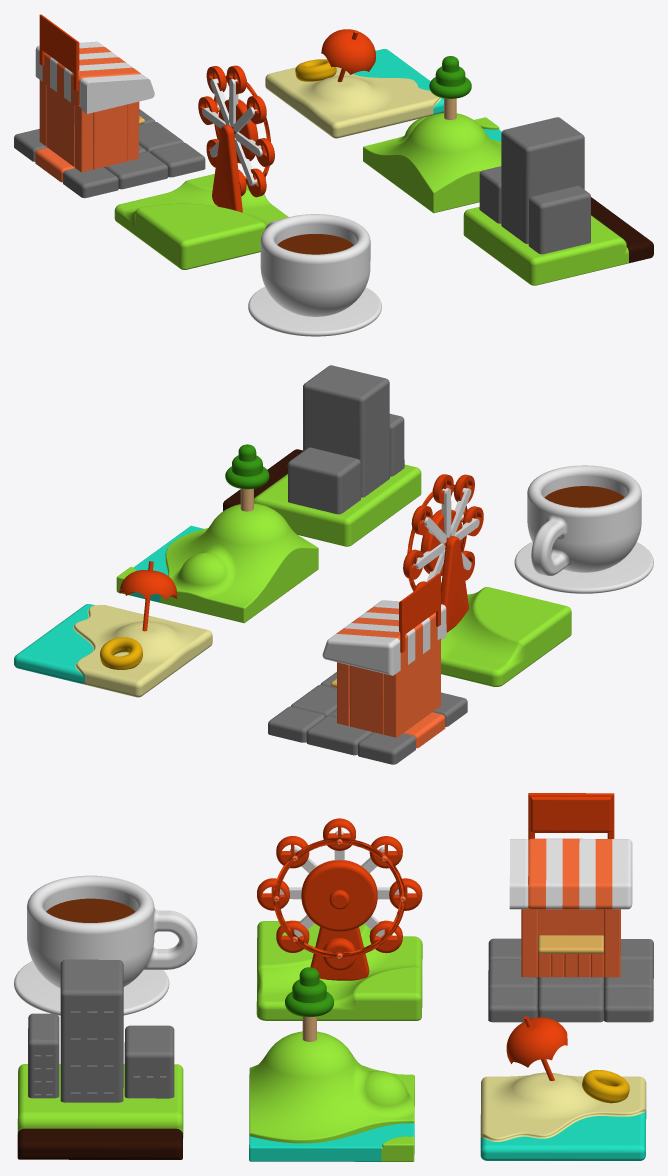
Rendered from place.glb.
3 renders of one model, top to bottom at view 1: azimuth 30°, elevation 25°; view 2: azimuth 150°, elevation 25°; view 3: azimuth 270°, elevation 25°, orthographic. The views are drawn at different scales.
Parts seen in each view (by area): view 1: Body50, Body91, Body22, Body88, Body92, Body96, Body85, Body93, Body47, Body54.001, Body72, Body46 (+18 smaller); view 2: Body91, Body22, Body50, Body92, Body88, Body85, Body96, Body1, Body47, Body87, Body54, Body57 (+17 smaller); view 3: Body91, Body22, Body50, Body85, Body92, Body88, Body96, Body87, Body94, Body36, Body1, Body5 (+31 smaller).
Part boxes in pixels (bbox=[...]): Body50: bbox=[114, 174, 288, 269]; Body91: bbox=[363, 112, 501, 213]; Body22: bbox=[260, 214, 370, 316]; Body88: bbox=[265, 67, 441, 138]; Body92: bbox=[501, 117, 584, 243]; Body96: bbox=[463, 207, 628, 285]; Body85: bbox=[14, 109, 205, 198]; Body93: bbox=[528, 185, 590, 254]; Body47: bbox=[248, 287, 381, 336]; Body54.001: bbox=[80, 74, 154, 113]; Body72: bbox=[93, 104, 127, 169]; Body46: bbox=[202, 78, 262, 185]; Body91: bbox=[160, 503, 318, 623]; Body22: bbox=[527, 465, 641, 576]; Body50: bbox=[441, 587, 571, 686]; Body92: bbox=[303, 365, 389, 497]; Body88: bbox=[73, 605, 212, 697]; Body85: bbox=[268, 672, 467, 764]; Body96: bbox=[254, 464, 421, 546]; Body1: bbox=[287, 447, 360, 514]; Body47: bbox=[514, 542, 653, 593]; Body87: bbox=[14, 604, 94, 683]; Body54: bbox=[322, 634, 400, 675]; Body57: bbox=[349, 665, 383, 734]; Body91: bbox=[249, 1031, 414, 1143]; Body22: bbox=[27, 875, 197, 988]; Body50: bbox=[256, 921, 422, 1020]; Body85: bbox=[488, 938, 653, 1022]; Body92: bbox=[60, 959, 123, 1102]; Body88: bbox=[480, 1072, 646, 1141]; Body96: bbox=[17, 1064, 183, 1138]; Body87: bbox=[480, 1110, 646, 1160]; Body94: bbox=[17, 1128, 182, 1159]; Body36: bbox=[301, 860, 377, 931]; Body1: bbox=[124, 1025, 174, 1098]; Body5: bbox=[249, 1123, 414, 1161].
Bounding box in the file's own units: 0.1507 × 0.061 × 0.1936.
